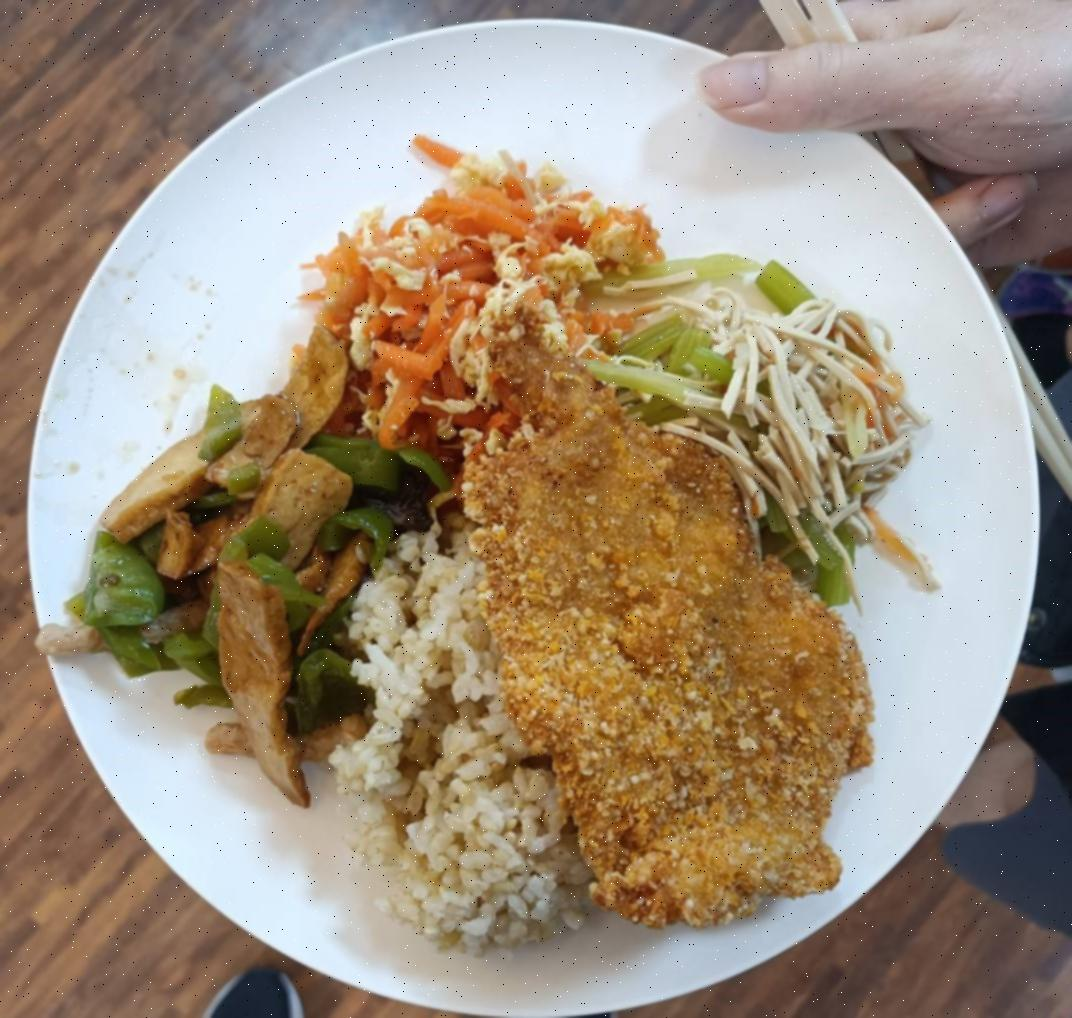brown rice: (346, 536, 574, 946)
chicken steak: (455, 388, 878, 916)
plate: (18, 10, 1061, 1018)
side dish: (63, 373, 431, 812), (630, 245, 926, 596), (316, 148, 656, 441)
